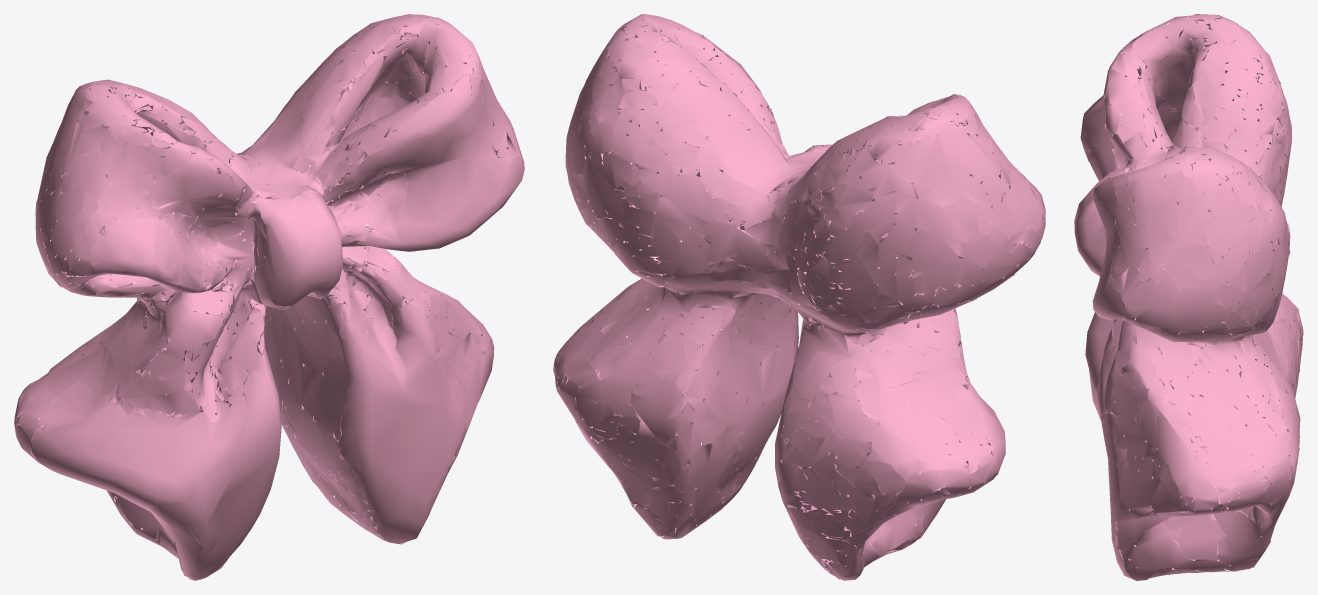
The model's file is bow_low.glb.
3 renders of one model, left to right at view 1: azimuth 30°, elevation 25°; view 2: azimuth 150°, elevation 25°; view 3: azimuth 270°, elevation 25°, orthographic. The views are drawn at different scales.
Parts seen in each view (by area): view 1: BowExport; view 2: BowExport; view 3: BowExport.
Part boxes in pixels (bbox=[...]): BowExport: bbox=[14, 14, 524, 580]; BowExport: bbox=[553, 14, 1045, 580]; BowExport: bbox=[1074, 14, 1303, 580].
Size of the model in its own units: 0.5284 by 0.5401 by 0.25.
